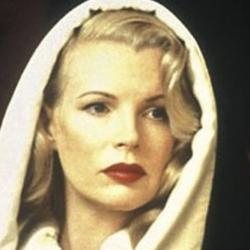face: (18, 3, 210, 225)
